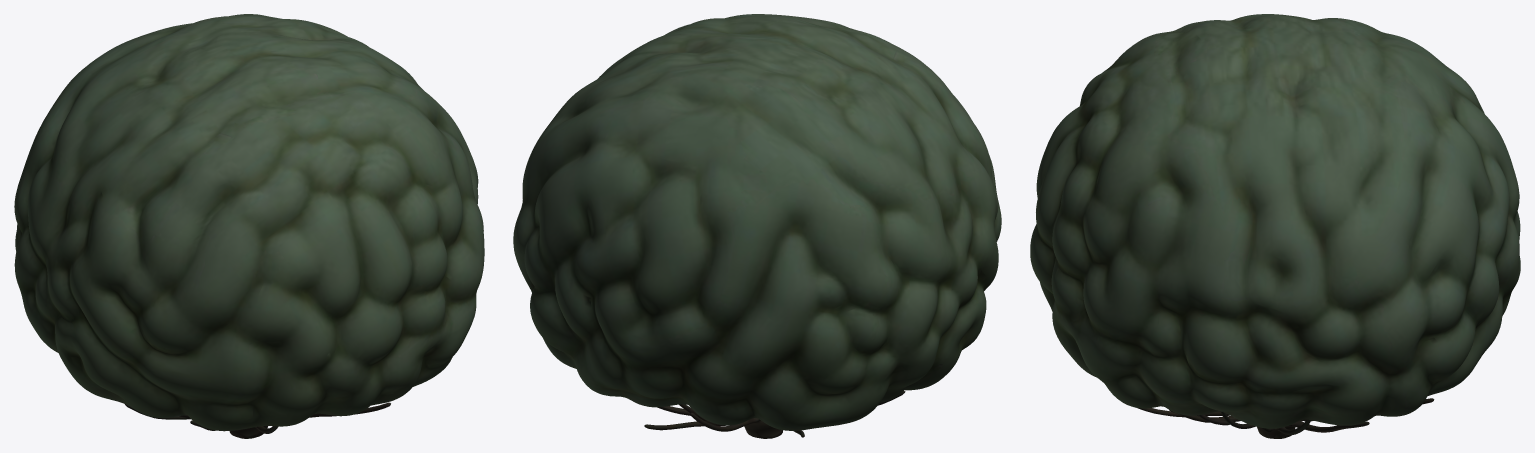
File: prop_bush.glb
The picture shows the model from 3 angles, left to right: view 1: azimuth 30°, elevation 25°; view 2: azimuth 150°, elevation 25°; view 3: azimuth 270°, elevation 25°; orthographic projection.
Visible parts, largest first — view 1: node_0; view 2: node_0; view 3: node_0.
Boxes of the visible parts, x1,y1,x2,y2 form: node_0: (14,14,484,438); node_0: (513,14,1001,438); node_0: (1030,14,1520,438).
Bounding box in the file's own units: 1.14 × 1.03 × 1.17.
1 material, 1 textured.
